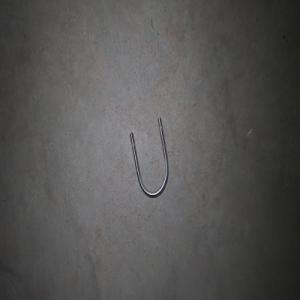ClampPart: (129, 116, 169, 199)
